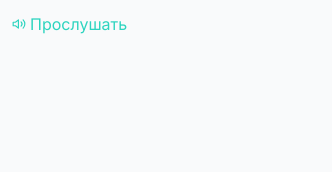
Test: плеер ответа › повтор в той же сессии не ходит на бэк
Earlier steps of the test are not shown.
Click the button "Прослушать" at (70, 24), box [12, 12, 127, 36]
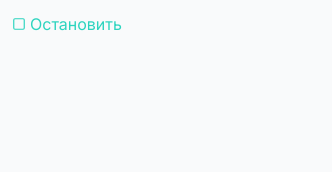
Check: the button "Остановить" is shown, box [12, 12, 122, 36]
